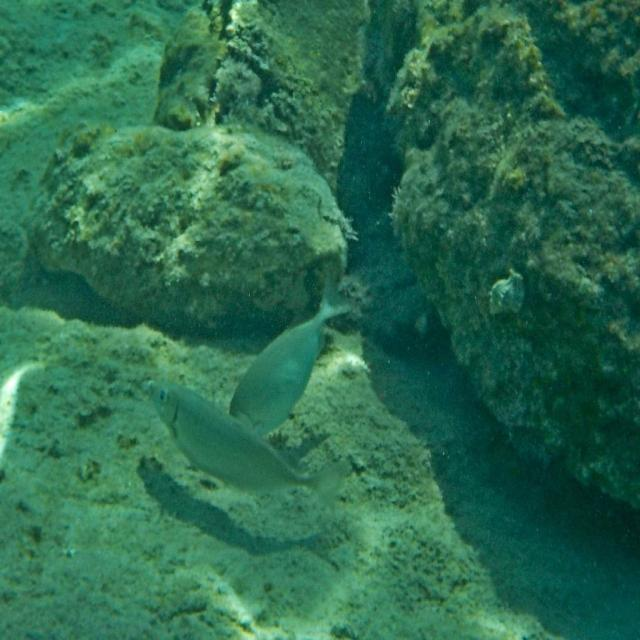Sokar Baligi: (141, 370, 349, 513)
